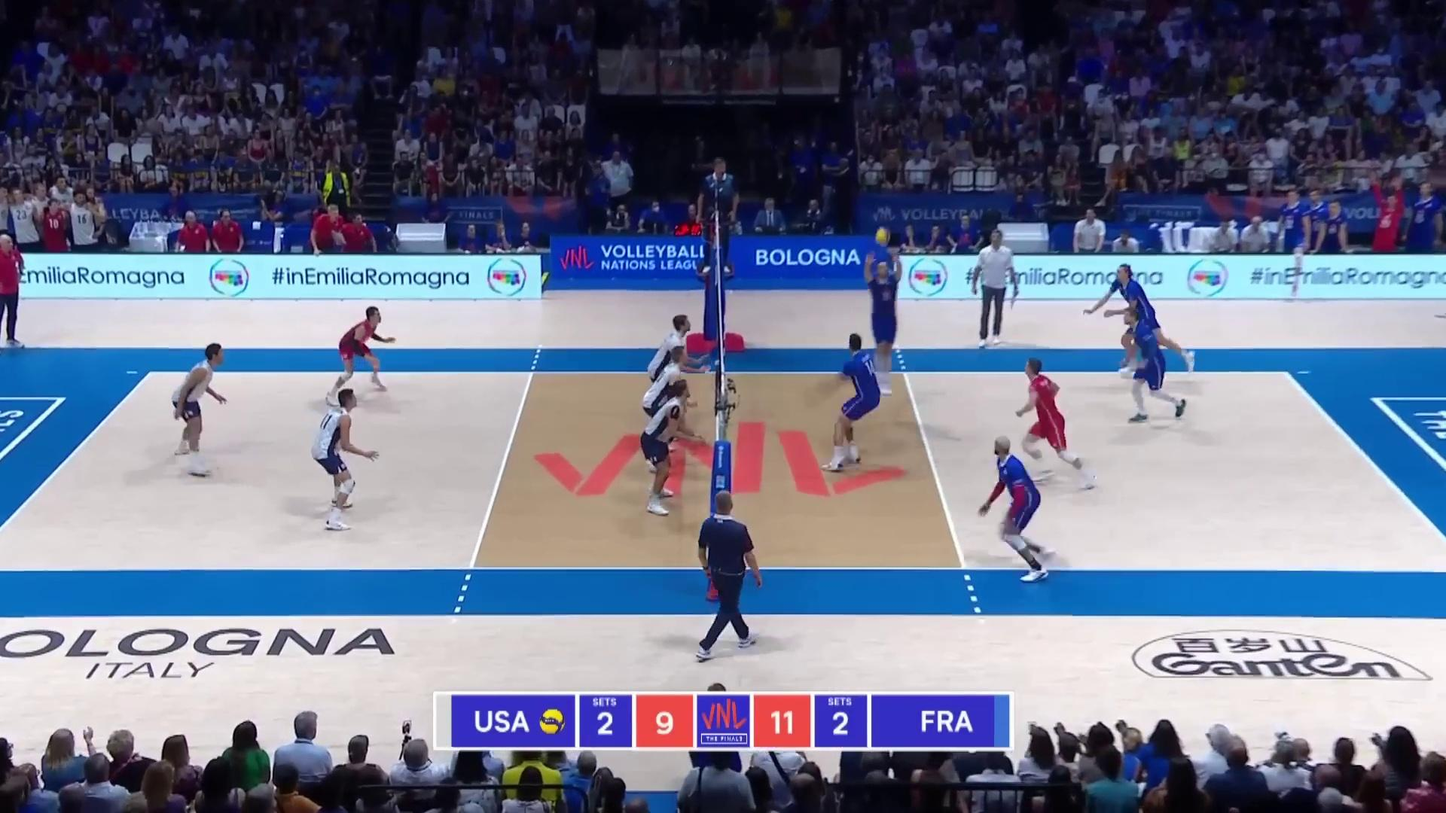player: (974, 436, 1051, 585), (1016, 357, 1095, 489), (312, 385, 379, 531), (1090, 266, 1164, 377), (1118, 303, 1183, 425), (826, 335, 881, 470), (170, 345, 227, 474), (643, 346, 696, 479), (642, 379, 691, 515), (644, 313, 706, 416), (333, 310, 393, 402)
refree: (691, 499, 760, 662), (697, 161, 738, 274)
